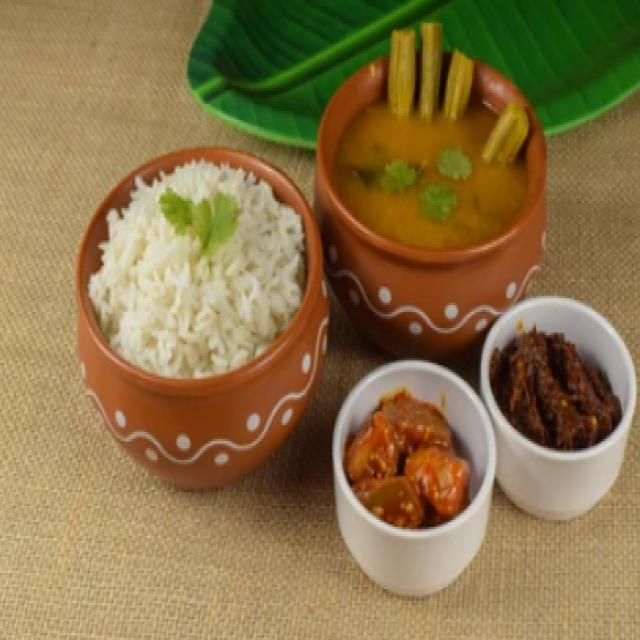sambar: (343, 58, 538, 266)
